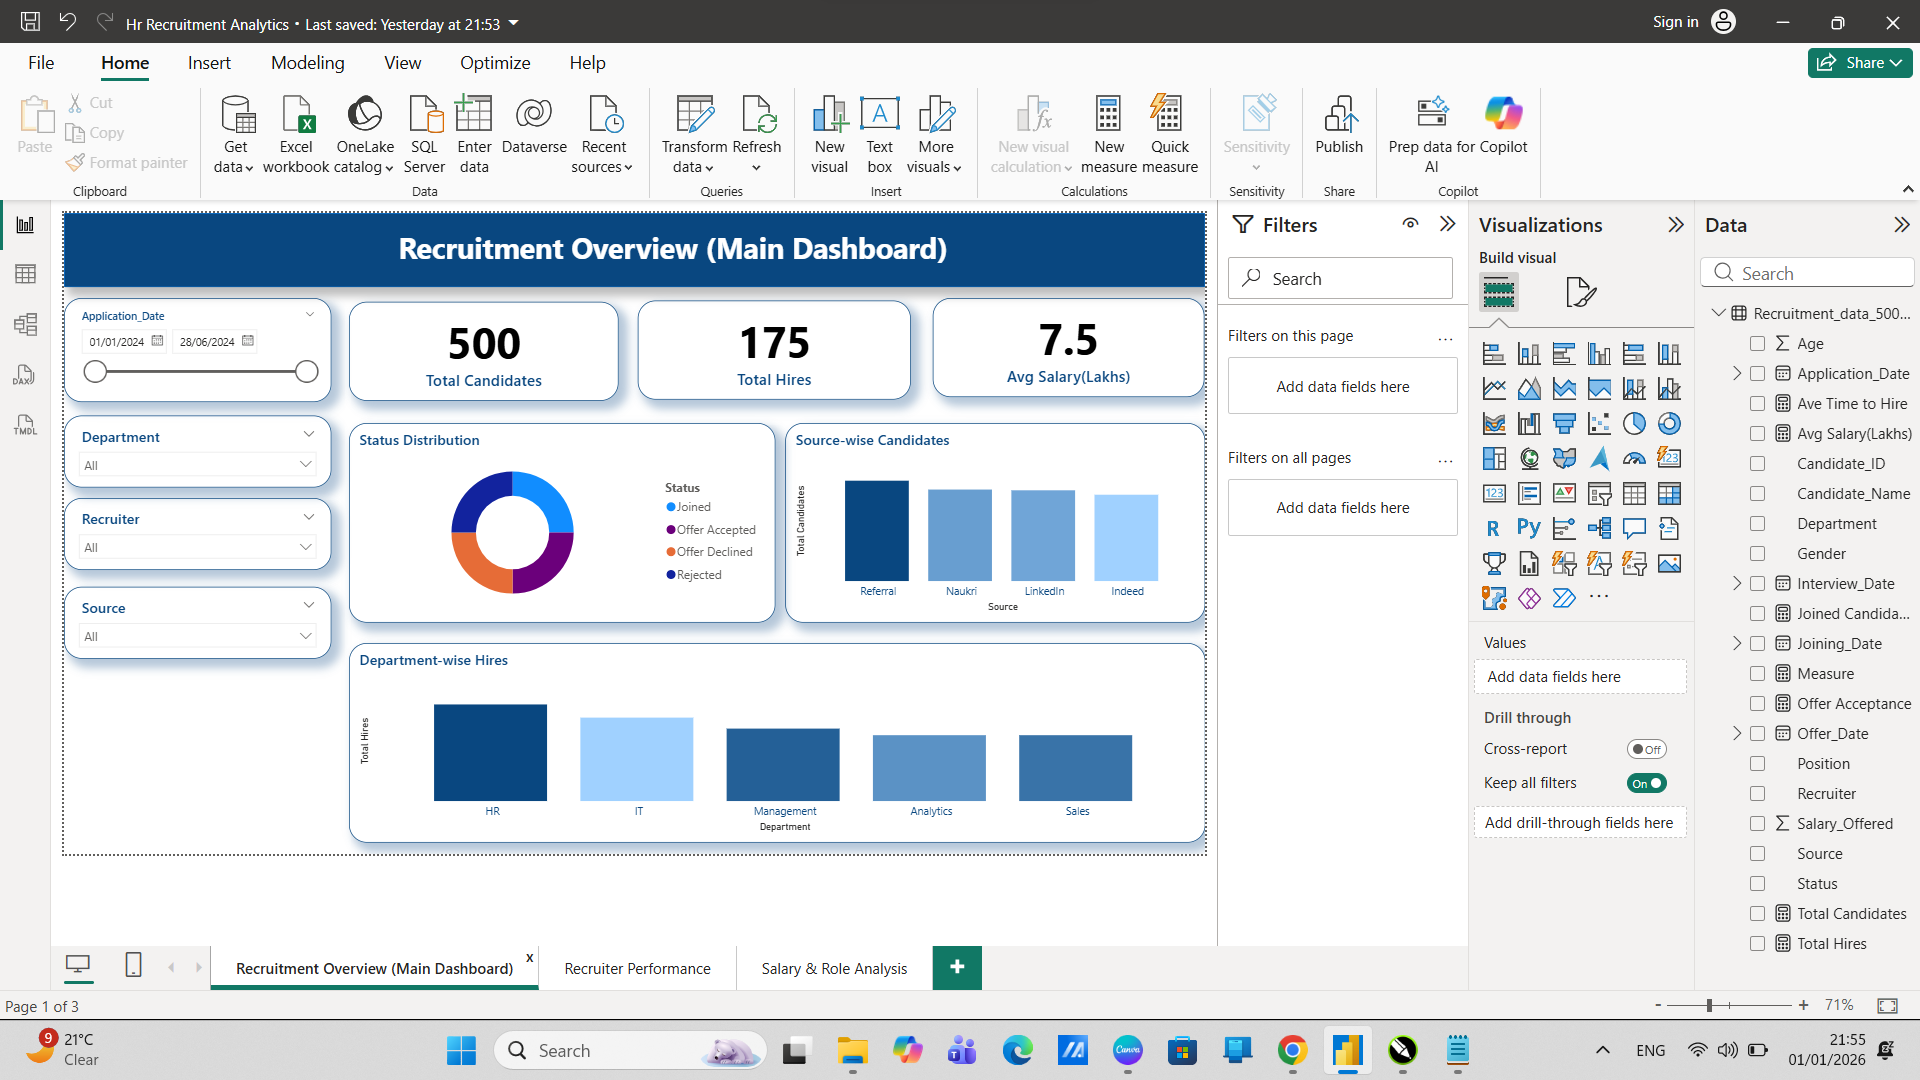

The dashboard page shown, as its layout file describes it:
{"tool":"powerbi","page":{"name":"Recruitment Overview (Main Dashboard)","canvas":[1280,720],"ordinal":0},"visuals":[{"type":"card","fields":{"Values":["Recruitment_data_500_records.Total Candidates"]},"box":[319.5,98.9,302.8,110.9],"z":0},{"type":"shape","box":[0,0,1280.2,83.4],"z":1000},{"type":"textbox","box":[371.6,0,645,57.5],"z":2000},{"type":"card","fields":{"Values":["Recruitment_data_500_records.Total Hires"]},"box":[643.7,97.7,306.4,110.9],"z":3000},{"type":"card","fields":{"Values":["Recruitment_data_500_records.Avg Salary(Lakhs)"]},"box":[975.1,95.4,305.2,110.9],"z":4000},{"type":"clusteredColumnChart","title":"Source-wise Candidates","fields":{"Category":["Recruitment_data_500_records.Source"],"Y":["Recruitment_data_500_records.Total Candidates"]},"box":[809.4,236,470.9,224.1],"z":5000},{"type":"donutChart","title":"Status Distribution","fields":{"Category":["Recruitment_data_500_records.Status"],"Y":["Recruitment_data_500_records.Total Candidates"]},"box":[319.5,236,478,224.1],"z":6000},{"type":"clusteredColumnChart","title":"Hires by Department","fields":{"Category":["Recruitment_data_500_records.Department"],"Y":["Recruitment_data_500_records.Total Hires"]},"box":[319.5,482.8,960.8,224.1],"z":7000},{"type":"slicer","fields":{"Values":["Recruitment_data_500_records.Department"]},"box":[0,227.7,300.4,81.1],"z":8000},{"type":"slicer","fields":{"Values":["Recruitment_data_500_records.Recruiter"]},"box":[0,319.5,300.4,81.1],"z":9000},{"type":"slicer","fields":{"Values":["Recruitment_data_500_records.Source"]},"box":[0,419.6,300.4,81.1],"z":10000},{"type":"slicer","fields":{"Values":["Recruitment_data_500_records.Application_Date"]},"box":[0,95.4,300.4,116.8],"z":11000},{"type":"actionButton","box":[0,0,100,40],"z":11001},{"type":"textbox","box":[431.9,50.5,464.2,44.9],"z":11002}]}

Visuals, with their boxes on the page's 1280x720 design canvas (x1, y1, x2, y2). These are canvas units, not pixel positions in the 1920x1080 screenshot, which may show the page scaled, cropped or inside an application window:
card - Recruitment_data_500_records.Total Candidates: {"x1": 320, "y1": 99, "x2": 622, "y2": 210}
shape: {"x1": 0, "y1": 0, "x2": 1280, "y2": 83}
textbox: {"x1": 372, "y1": 0, "x2": 1017, "y2": 58}
card - Recruitment_data_500_records.Total Hires: {"x1": 644, "y1": 98, "x2": 950, "y2": 209}
card - Recruitment_data_500_records.Avg Salary(Lakhs): {"x1": 975, "y1": 95, "x2": 1280, "y2": 206}
"Source-wise Candidates" clusteredColumnChart: {"x1": 809, "y1": 236, "x2": 1280, "y2": 460}
"Status Distribution" donutChart: {"x1": 320, "y1": 236, "x2": 798, "y2": 460}
"Hires by Department" clusteredColumnChart: {"x1": 320, "y1": 483, "x2": 1280, "y2": 707}
slicer - Recruitment_data_500_records.Department: {"x1": 0, "y1": 228, "x2": 300, "y2": 309}
slicer - Recruitment_data_500_records.Recruiter: {"x1": 0, "y1": 320, "x2": 300, "y2": 401}
slicer - Recruitment_data_500_records.Source: {"x1": 0, "y1": 420, "x2": 300, "y2": 501}
slicer - Recruitment_data_500_records.Application_Date: {"x1": 0, "y1": 95, "x2": 300, "y2": 212}
actionButton: {"x1": 0, "y1": 0, "x2": 100, "y2": 40}
textbox: {"x1": 432, "y1": 50, "x2": 896, "y2": 95}
